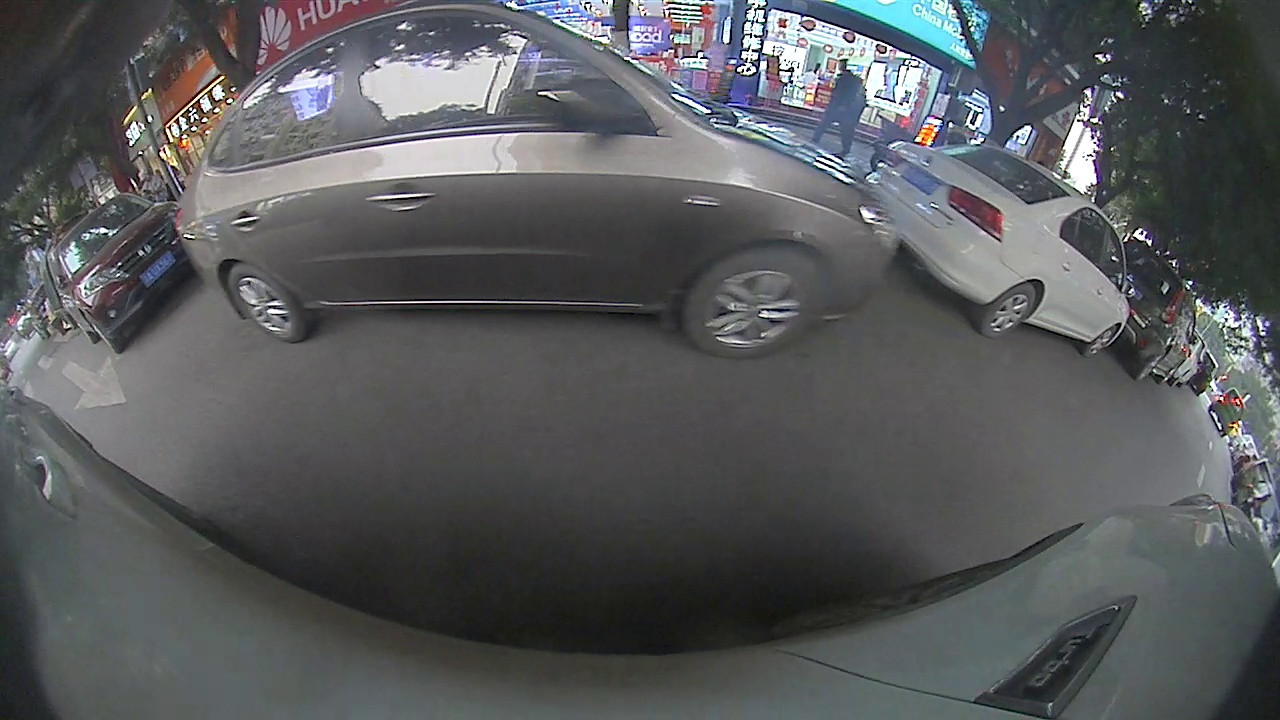car: (172, 1, 904, 362), (861, 143, 1135, 359), (43, 194, 184, 356)
front: (684, 243, 826, 363), (1087, 324, 1120, 358)
rear: (228, 266, 310, 343), (982, 283, 1040, 342)
